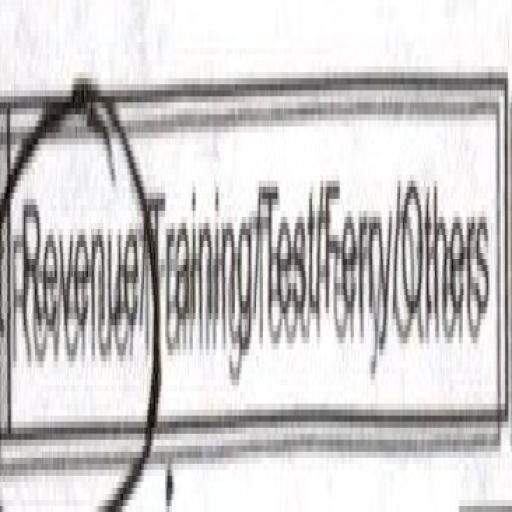check: (0, 50, 148, 512)
